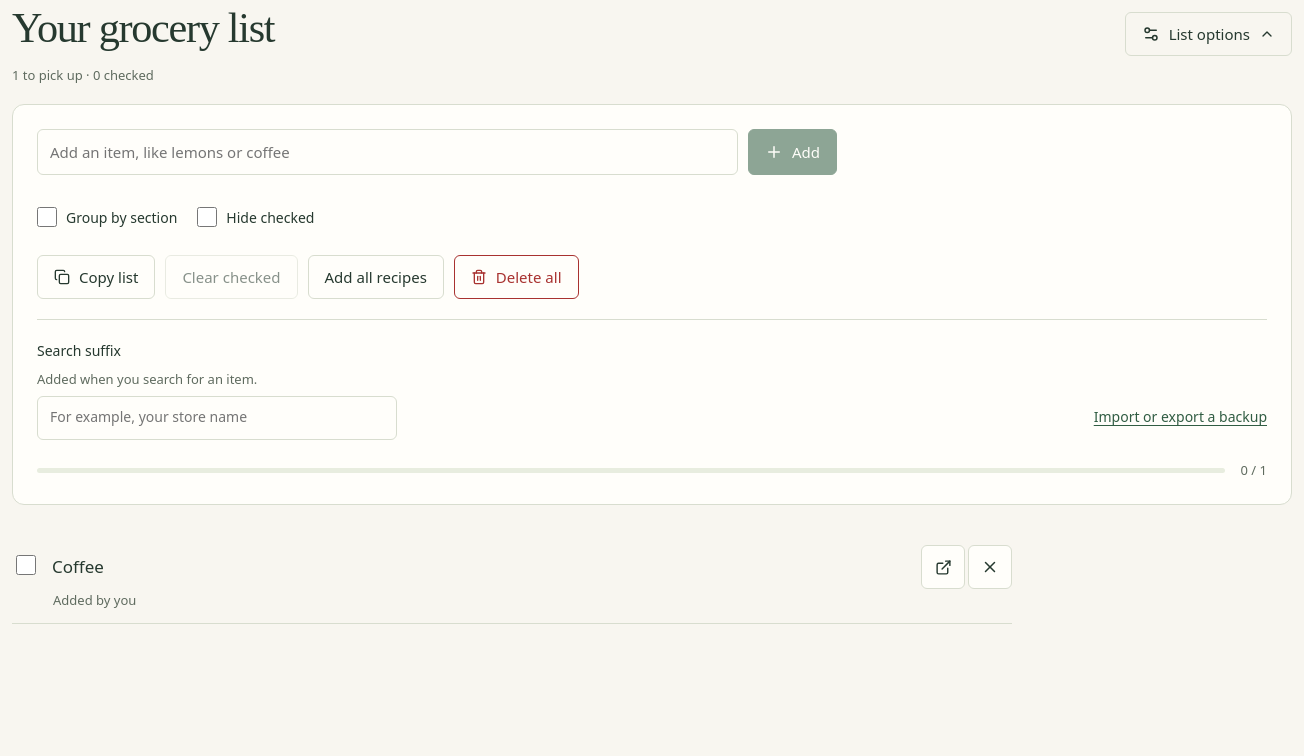
Scenario: Groceries › hides completed items, announces a finished list, and restores them
Click the checkbox labelled "Hide checked".
click(207, 217)  # box [197, 207, 217, 227]
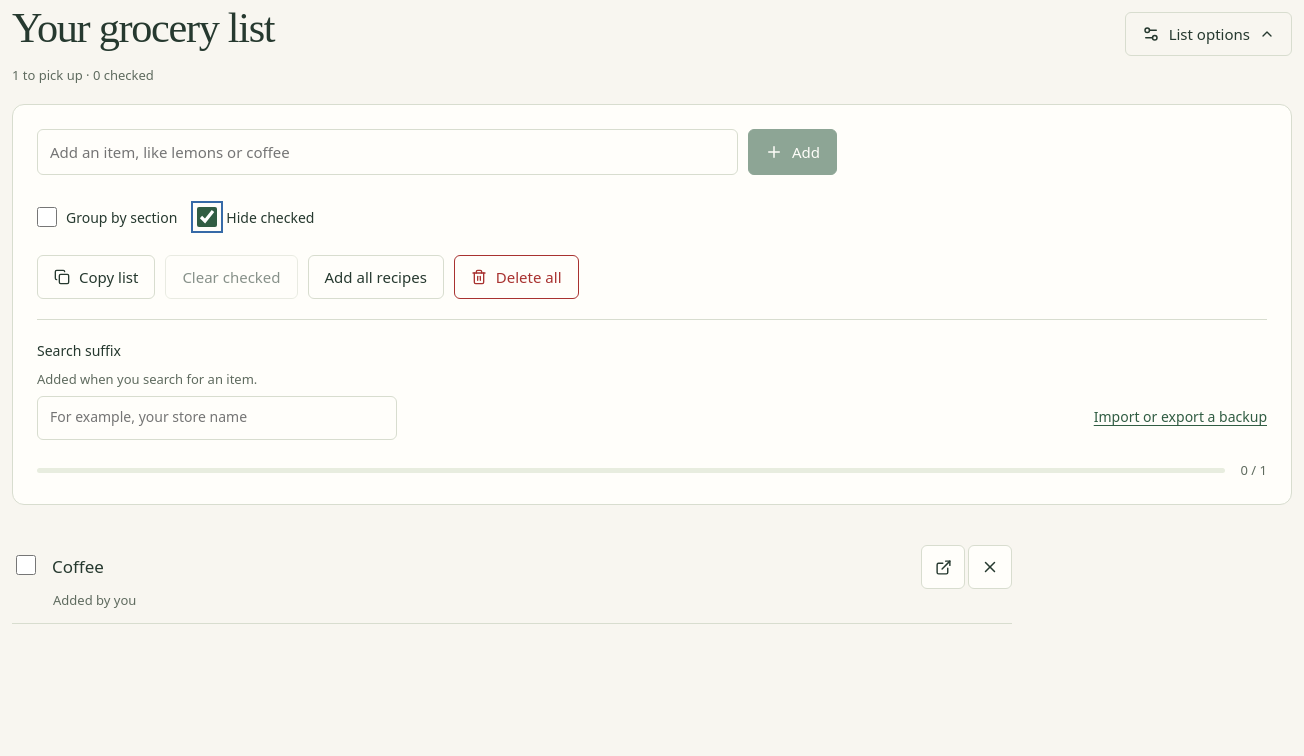
Click the checkbox named "Check Coffee".
click(26, 565)  # box [16, 555, 36, 575]
(page scrolled)
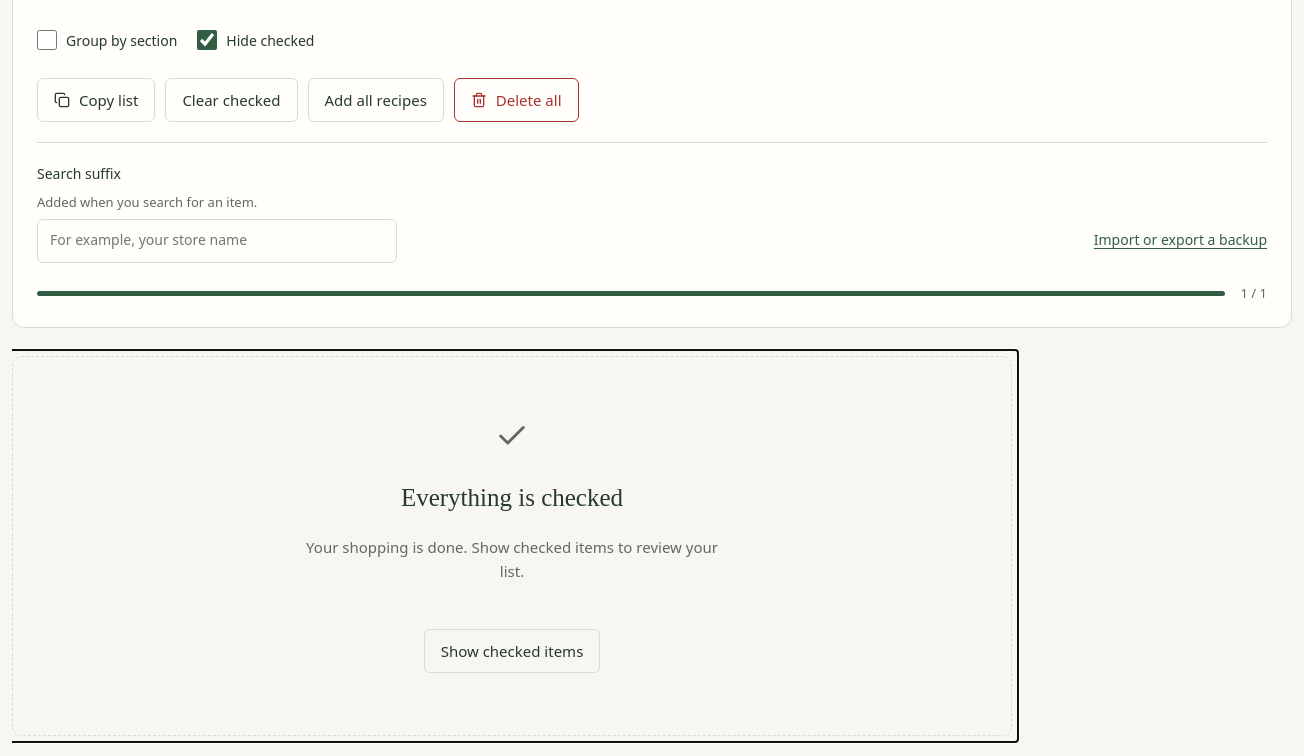
Result: the heading "Everything is checked" is shown at [401, 483, 623, 513]
Click the button "Show checked items".
click(512, 651)  # box [424, 629, 600, 673]
(page scrolled)
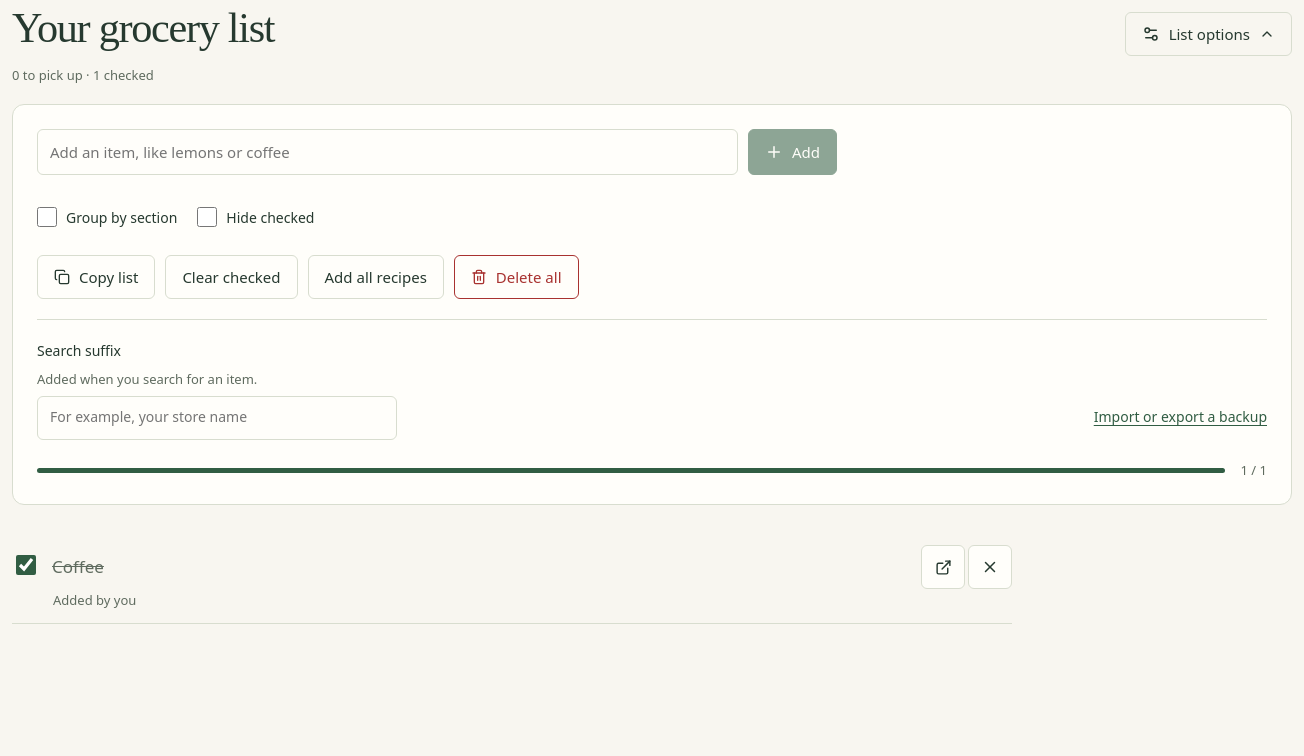
Result: the checkbox named "Check Coffee" is checked at [16, 555, 36, 575]
